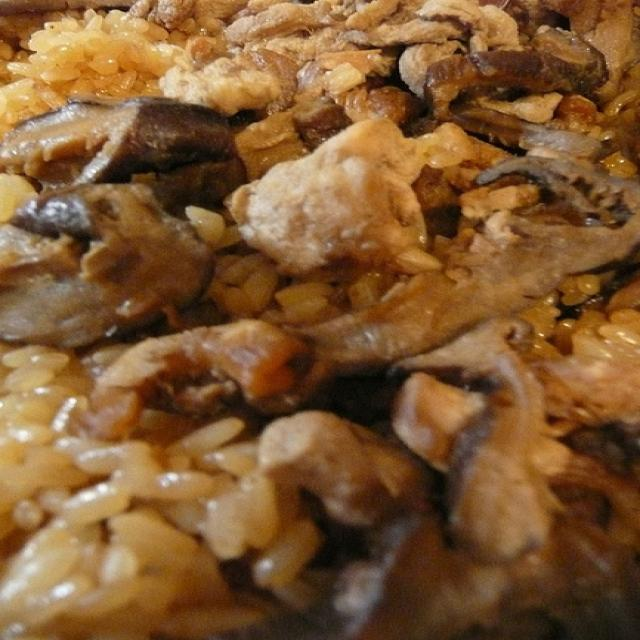米饭主食: (21, 18, 586, 608)
